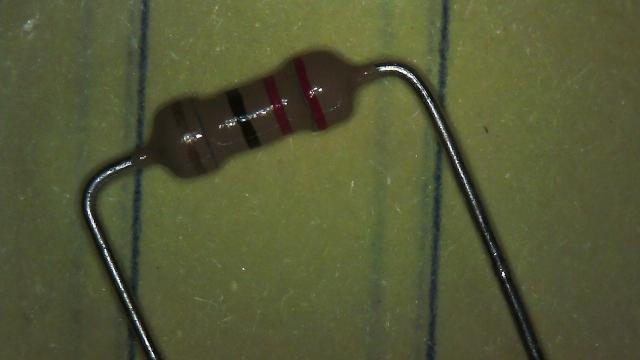black: (226, 90, 260, 148)
gold: (174, 100, 208, 174)
orange: (262, 76, 292, 135)
red: (293, 57, 328, 130)
resistor: (126, 21, 388, 210)
